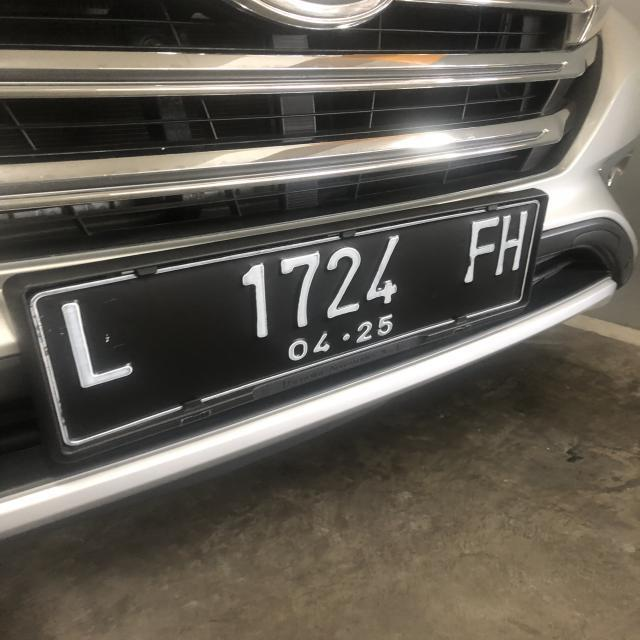1: (242, 260, 278, 348)
2: (323, 245, 364, 322)
4: (365, 235, 405, 307)
7: (280, 250, 320, 333)
F: (464, 216, 500, 282)
H: (494, 209, 528, 280)
L: (59, 298, 138, 392)
